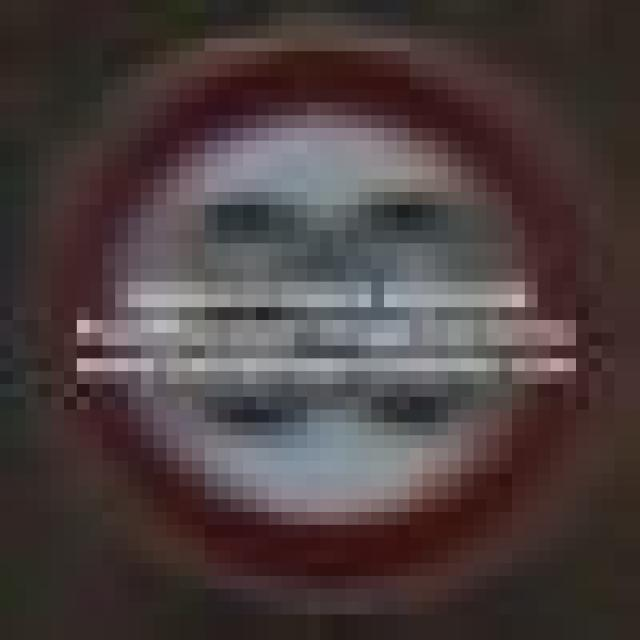speed_limit_50: (51, 38, 589, 550)
